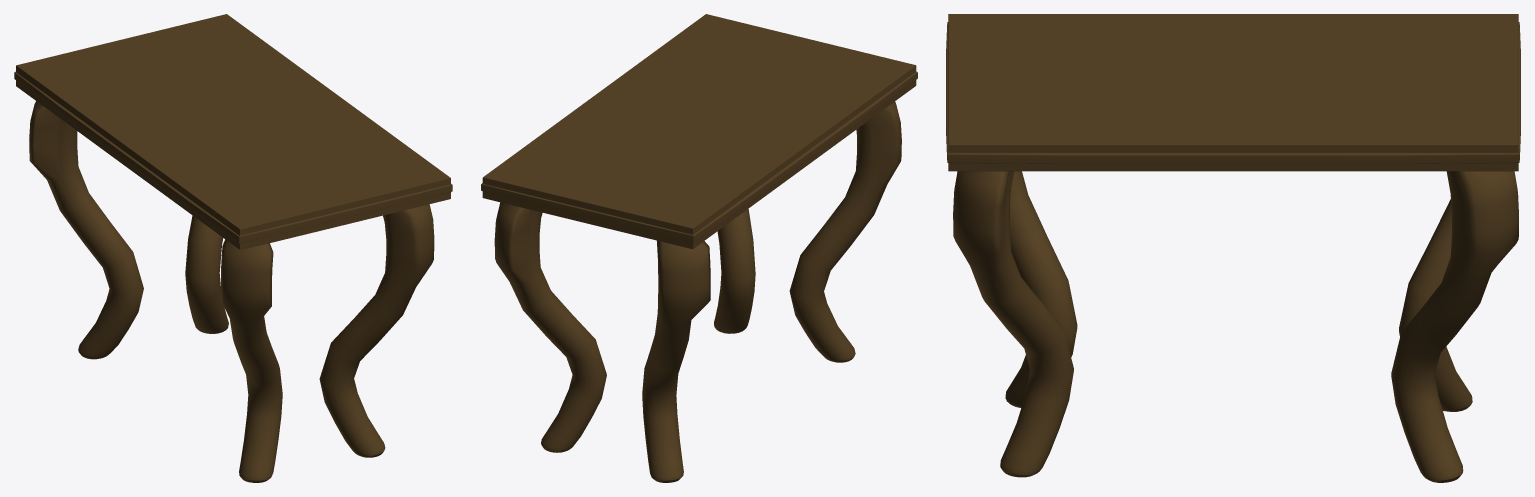
The model's file is SmallTable.fbx.
3 renders of one model, left to right at view 1: azimuth 30°, elevation 25°; view 2: azimuth 150°, elevation 25°; view 3: azimuth 270°, elevation 25°, orthographic. The views are drawn at different scales.
Parts seen in each view (by area): view 1: pasted__polySurface29; view 2: pasted__polySurface29; view 3: pasted__polySurface29.
Boxes of the visible parts, x1=… form: pasted__polySurface29: x1=14, y1=14, x2=452, y2=482; pasted__polySurface29: x1=481, y1=14, x2=917, y2=482; pasted__polySurface29: x1=946, y1=14, x2=1520, y2=482.
Bounding box in the file's own units: 5.28 × 6.6 × 9.54.
